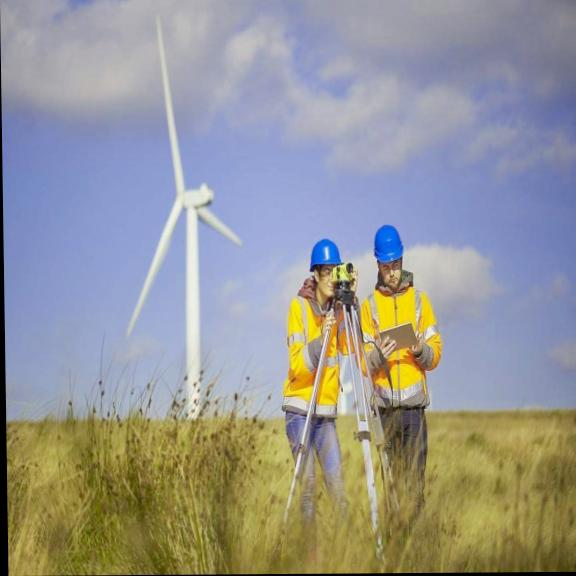safety_vest: (357, 283, 447, 405), (280, 293, 356, 412)
